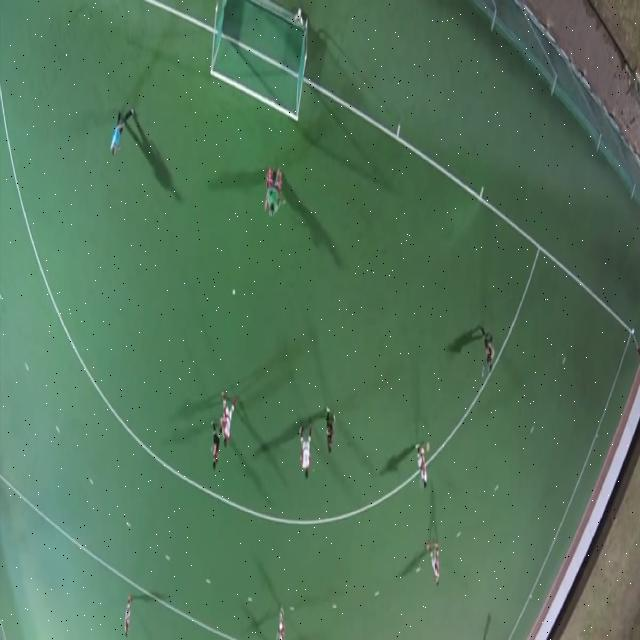humans: (108, 98, 135, 169), (262, 166, 286, 226), (220, 386, 238, 455), (413, 436, 433, 498), (297, 412, 314, 484), (480, 321, 498, 386), (323, 402, 337, 463), (427, 539, 442, 594), (208, 423, 221, 478), (121, 589, 135, 640)
